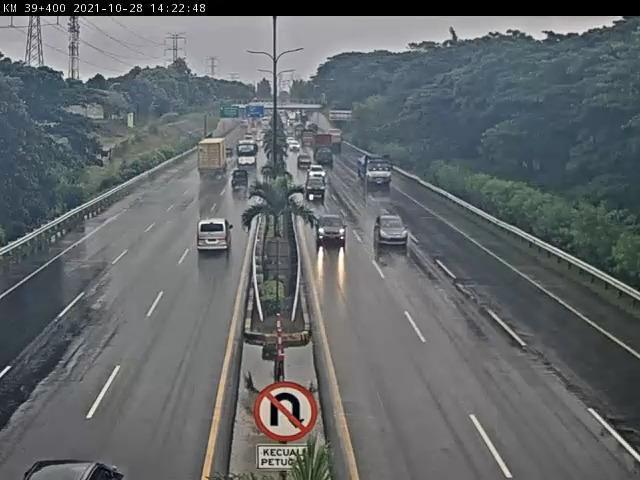bus: (238, 141, 261, 169)
truck: (197, 138, 230, 178), (360, 153, 394, 189), (313, 132, 335, 167)
